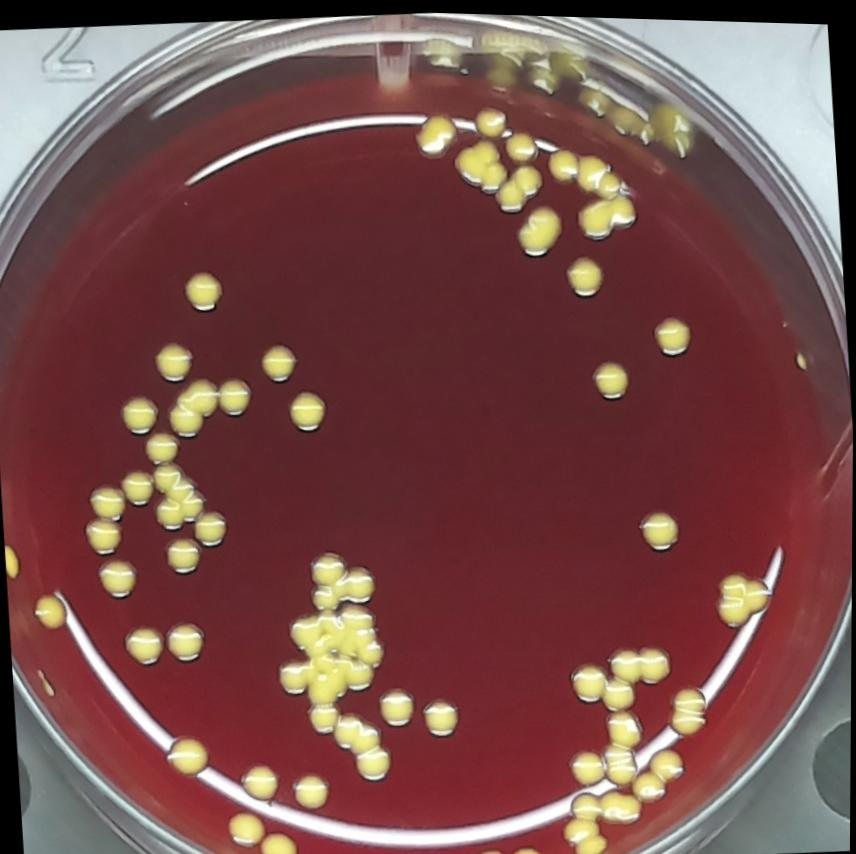mluteus: (287, 603, 390, 700), (562, 634, 673, 711), (304, 543, 379, 611), (712, 559, 776, 626), (556, 783, 607, 854), (452, 131, 509, 194), (574, 190, 639, 241), (513, 196, 564, 256), (667, 676, 712, 736), (162, 730, 214, 780), (412, 103, 459, 156), (150, 334, 198, 384), (177, 264, 223, 315), (284, 383, 330, 434), (121, 617, 165, 669), (332, 709, 384, 753), (114, 387, 160, 436), (637, 500, 682, 550), (586, 351, 632, 399), (238, 756, 282, 806), (163, 614, 206, 665), (598, 735, 641, 786), (288, 765, 334, 812), (650, 308, 695, 356), (571, 144, 614, 194), (256, 337, 300, 385), (597, 780, 645, 824), (96, 552, 139, 601), (375, 679, 418, 728), (563, 248, 606, 296), (420, 691, 463, 739), (81, 512, 125, 558), (175, 373, 220, 417), (353, 739, 397, 783), (600, 701, 644, 745), (161, 531, 204, 576), (226, 804, 268, 849), (86, 477, 127, 521), (31, 588, 71, 632), (564, 741, 606, 782), (190, 505, 229, 548), (216, 371, 253, 416), (647, 738, 688, 778), (119, 464, 156, 508), (543, 137, 579, 182), (166, 400, 205, 440), (142, 426, 182, 465), (276, 653, 310, 697), (304, 697, 343, 734), (632, 762, 669, 801), (152, 492, 187, 533), (502, 123, 538, 162), (492, 174, 528, 213), (472, 99, 507, 137), (259, 823, 300, 854), (164, 470, 199, 506), (511, 157, 544, 193), (151, 461, 184, 495), (176, 487, 208, 521), (4, 540, 26, 583), (510, 838, 547, 854), (471, 840, 511, 854)
